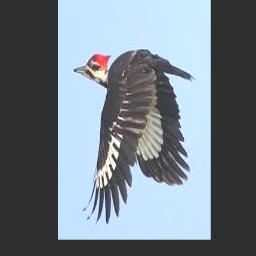Woodpecker: (74, 48, 197, 223)
